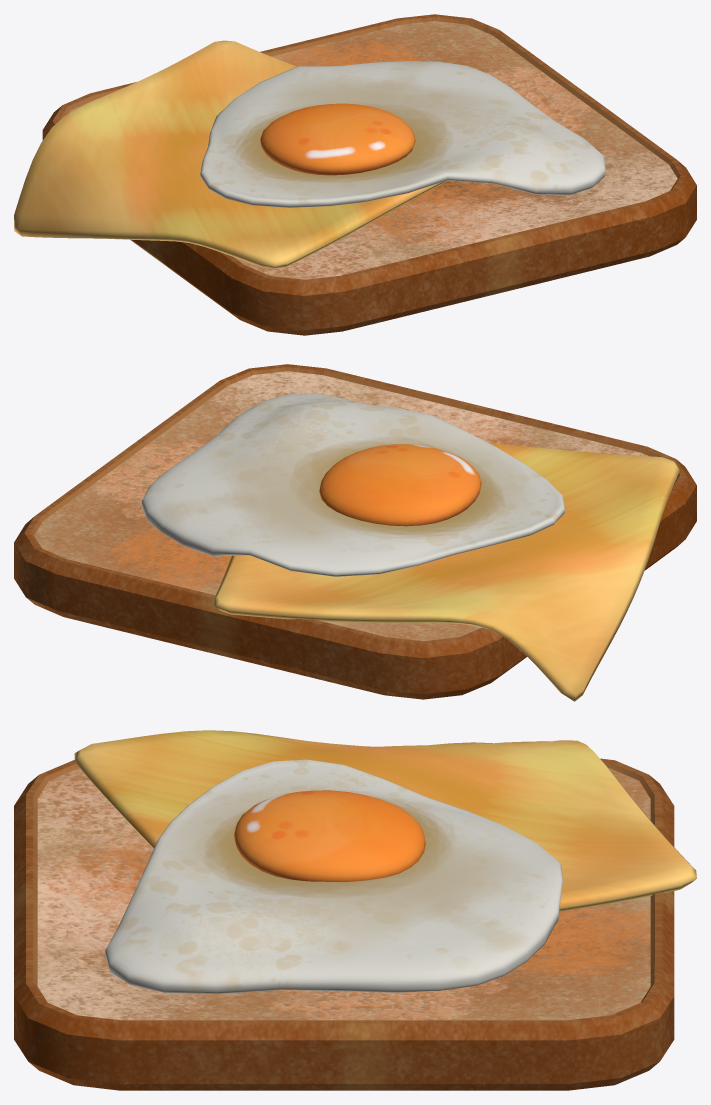
The model's file is avoToast.gltf.
The picture shows the model from 3 angles, top to bottom: view 1: azimuth 30°, elevation 25°; view 2: azimuth 150°, elevation 25°; view 3: azimuth 270°, elevation 25°; orthographic projection. The views are drawn at different scales.
Visible parts, largest first — view 1: pCube13; view 2: pCube13; view 3: pCube13.
Boxes of the visible parts, x1,y1,x2,y2 form: pCube13: (14,14,696,335); pCube13: (14,364,696,701); pCube13: (14,730,696,1090).
Bounding box in the file's own units: 7.78 × 1.58 × 7.14.
5 materials, 5 textured.
